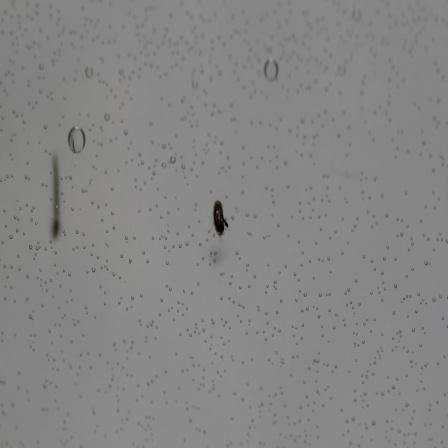Jentik-Nyamuk: (45, 151, 66, 243), (207, 197, 233, 241)
